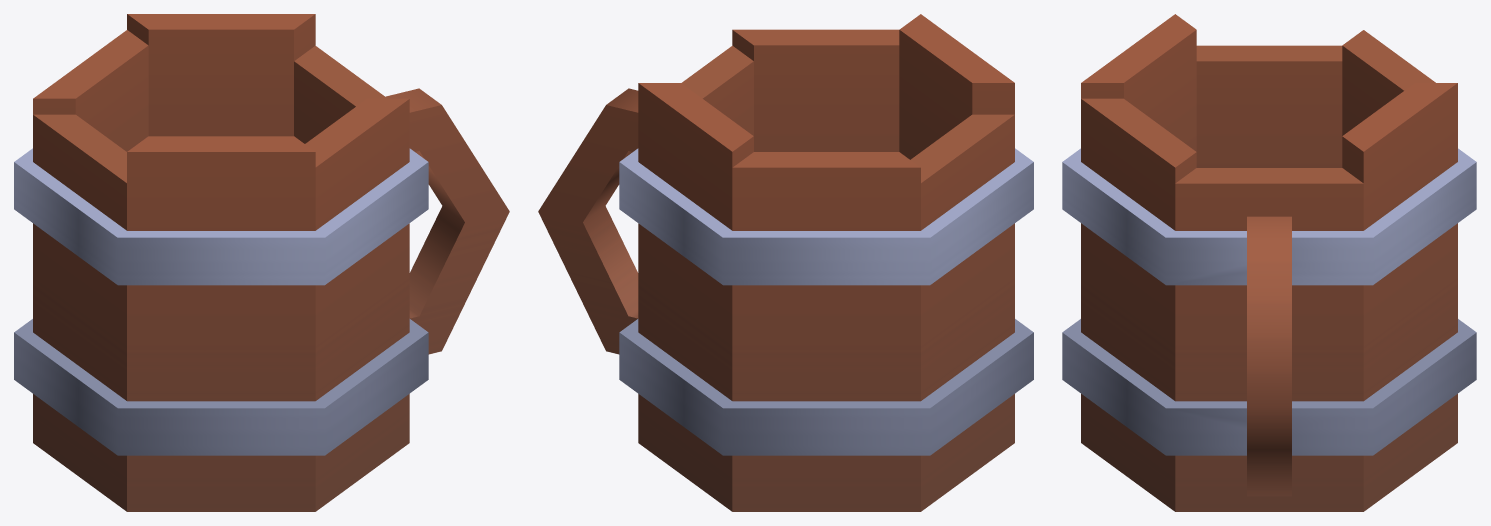
File: mug.obj
The picture shows the model from 3 angles, left to right: view 1: azimuth 30°, elevation 25°; view 2: azimuth 150°, elevation 25°; view 3: azimuth 270°, elevation 25°; orthographic projection.
Visible parts, largest first — view 1: mug; view 2: mug; view 3: mug.
Boxes of the visible parts, bbox=[...] form: mug: bbox=[14, 14, 509, 511]; mug: bbox=[538, 14, 1033, 511]; mug: bbox=[1062, 14, 1476, 511].
Size of the model in its own units: 0.3437 by 0.2734 by 0.2851.
1 material, 1 textured.
